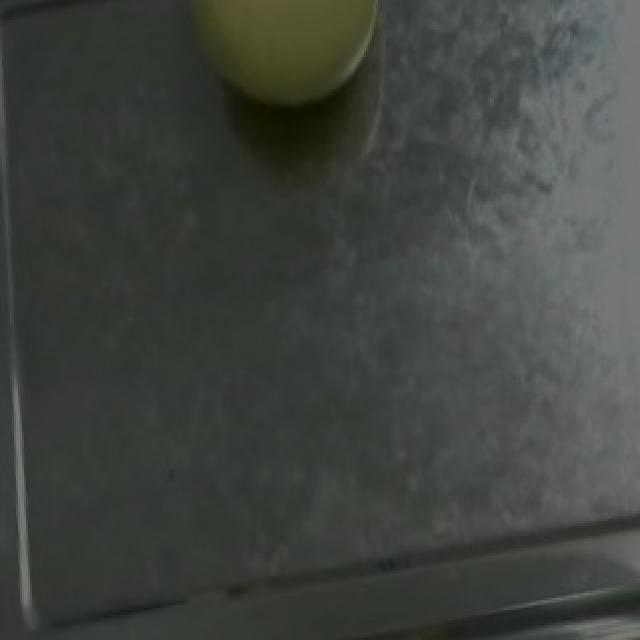Fruit: (158, 0, 406, 131)
